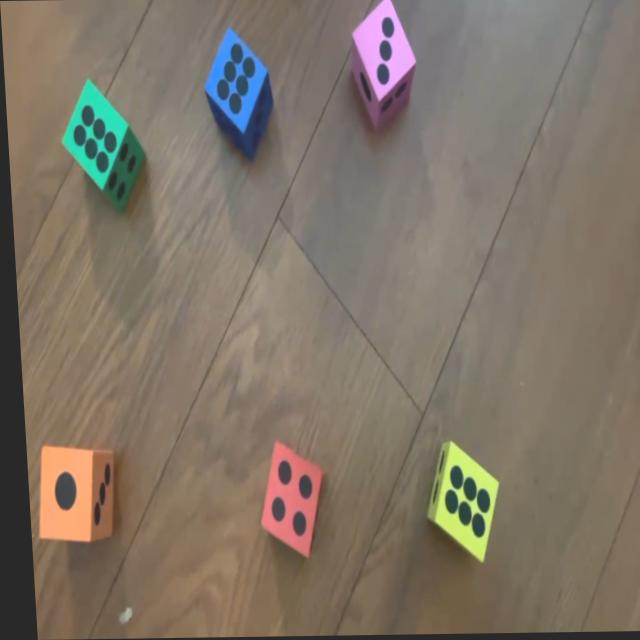blue_block: (200, 28, 272, 155)
red_block: (250, 440, 319, 558)
